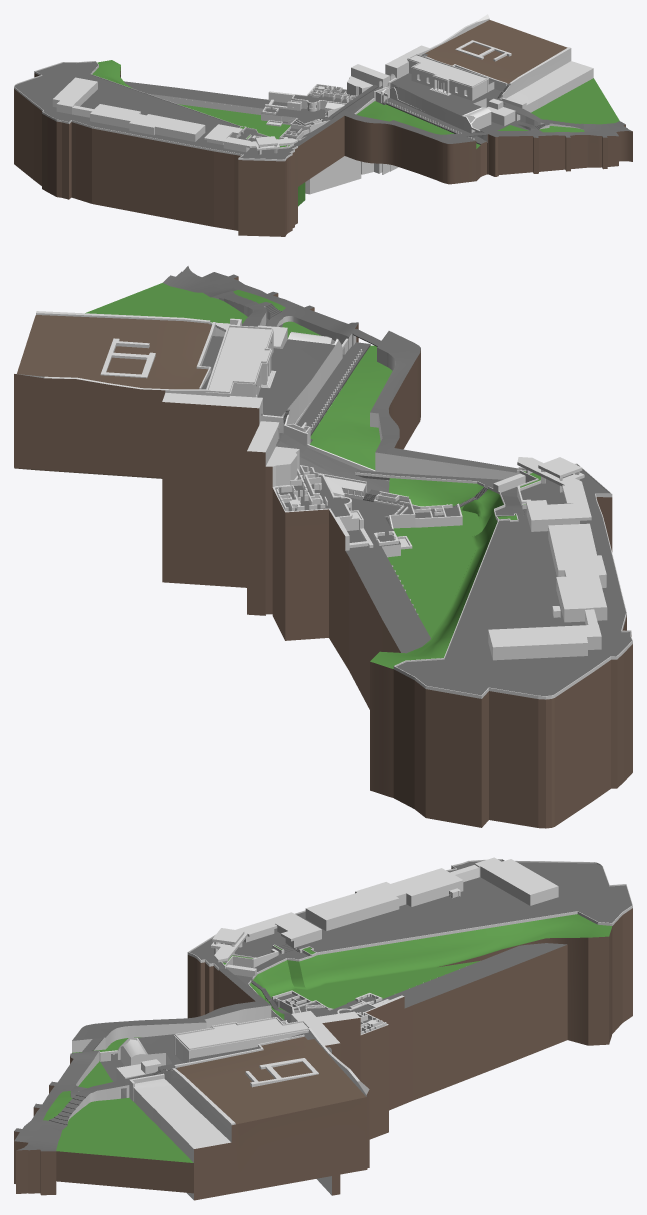
File: lavoro.glb
The picture shows the model from 3 angles, top to bottom: view 1: azimuth 30°, elevation 25°; view 2: azimuth 150°, elevation 25°; view 3: azimuth 270°, elevation 25°; orthographic projection. The views are drawn at different scales.
Visible parts, largest first — view 1: Parapetto Piazzale Centro Stella, Passeggiata archeologica, Terreno tempio venere, Viale con Scaloni, Piazzale Centro Stella, Terrazzamento Antiquarium, Terme Sub, Centro Stella, Prato alla base granai, Antiquarium, Giardino Villa Imperiale, Porta Marina (+13 smaller); view 2: Parapetto Piazzale Centro Stella, Porta Marina, Piazzale Centro Stella, Terme Sub, Muro nord venere.001, Terreno tempio venere, Scarpata, Centro Stella, Giardino Villa Imperiale, Terrazzamento Antiquarium, Prato, Passeggiata archeologica (+13 smaller); view 3: Terreno tempio venere, Terme Sub, Scarpata, Piazzale Centro Stella, Prato alla base granai, Centro Stella, Viale con Scaloni, Parapetto Piazzale Centro Stella, Antiquarium, Prato, Porta Marina, Terrazzamento Antiquarium (+10 smaller).
Boxes of the visible parts, x1,y1,x2,y2 form: Parapetto Piazzale Centro Stella: (14, 61, 304, 236); Passeggiata archeologica: (294, 110, 476, 186); Terreno tempio venere: (425, 20, 593, 112); Viale con Scaloni: (480, 101, 632, 176); Piazzale Centro Stella: (14, 62, 299, 159); Terrazzamento Antiquarium: (381, 73, 529, 176); Terme Sub: (124, 81, 361, 194); Centro Stella: (52, 77, 205, 141); Prato alla base granai: (531, 78, 619, 124); Antiquarium: (407, 54, 488, 100); Giardino Villa Imperiale: (356, 101, 480, 180); Porta Marina: (351, 45, 429, 174); Parapetto Piazzale Centro Stella: (355, 463, 632, 828); Porta Marina: (162, 392, 279, 615); Piazzale Centro Stella: (390, 469, 631, 695); Terme Sub: (272, 493, 430, 709); Muro nord venere.001: (14, 374, 206, 477); Terreno tempio venere: (14, 311, 236, 478); Scarpata: (370, 478, 503, 797); Centro Stella: (488, 523, 607, 660); Giardino Villa Imperiale: (310, 345, 516, 481); Terrazzamento Antiquarium: (257, 318, 370, 442); Prato: (387, 510, 482, 637); Passeggiata archeologica: (370, 331, 518, 472); Terreno tempio venere: (133, 1036, 367, 1200); Terme Sub: (294, 943, 567, 1139); Scarpata: (249, 914, 612, 1045); Piazzale Centro Stella: (190, 860, 631, 1015); Prato alla base granai: (56, 1097, 193, 1193); Centro Stella: (305, 857, 558, 931); Viale con Scaloni: (14, 1050, 159, 1195); Parapetto Piazzale Centro Stella: (187, 859, 632, 1033); Antiquarium: (174, 1017, 310, 1063); Prato: (266, 961, 479, 1010); Porta Marina: (294, 1011, 360, 1195); Terrazzamento Antiquarium: (78, 1034, 182, 1098).
Size of what is drawn, in the model's own units: 273 by 65.57 by 231.
